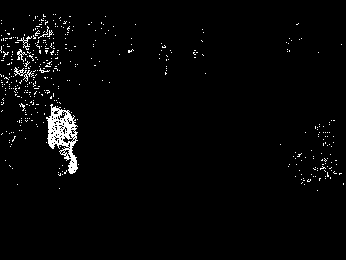person: (35, 96, 85, 180)
